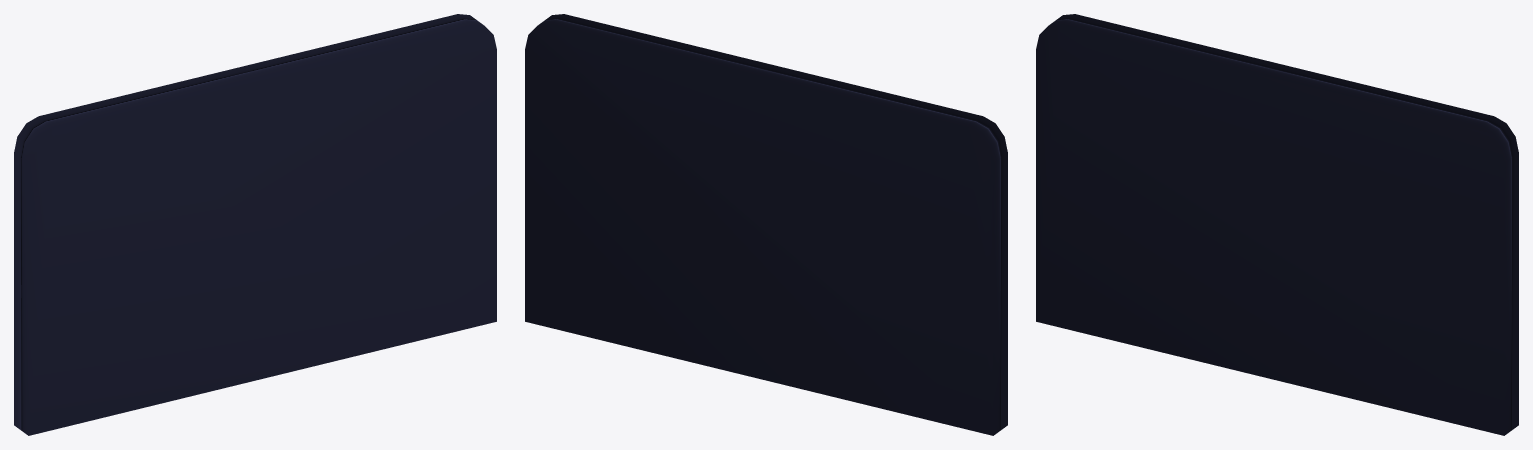
Rendered from Wall.fbx.
3 views of the same model, side by side, from view 1: azimuth 30°, elevation 25°; view 2: azimuth 150°, elevation 25°; view 3: azimuth 330°, elevation 25° (orthographic).
Parts seen in each view (by area): view 1: Cube.003; view 2: Cube.003; view 3: Cube.003.
Part boxes in pixels (x1,y1,x2,y2): Cube.003: (14,14,496,435); Cube.003: (525,14,1007,435); Cube.003: (1036,14,1518,435).
Size of the model in its own units: 1760 by 1088 by 95.38.
